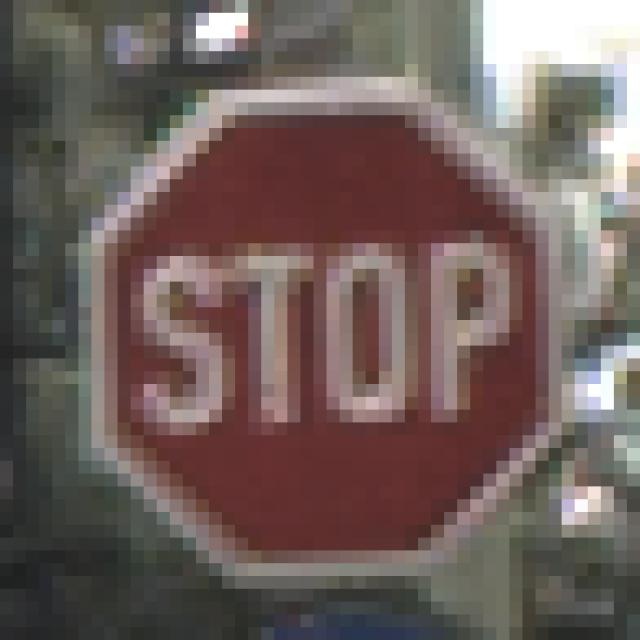STOP: (66, 78, 563, 577)
